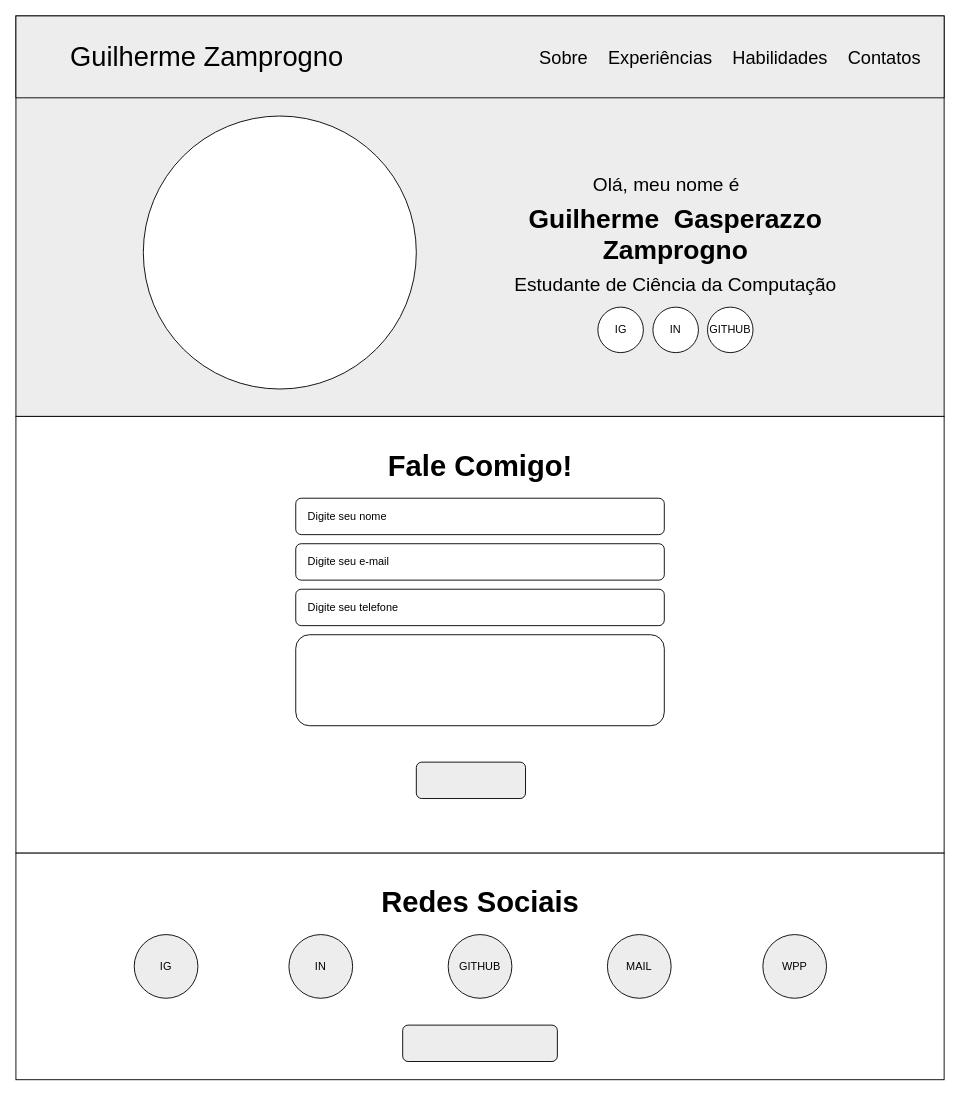
This 969x1096 diagram has some shape labels left out. The shapes that lost their labels are listed below. From the top down, each one's centre as x and y in pixels, then its label:
point (279, 252): Foto
point (479, 680): Digite sua mensagem
point (470, 780): ENVIAR
point (479, 1043): Envie uma Mensagem
